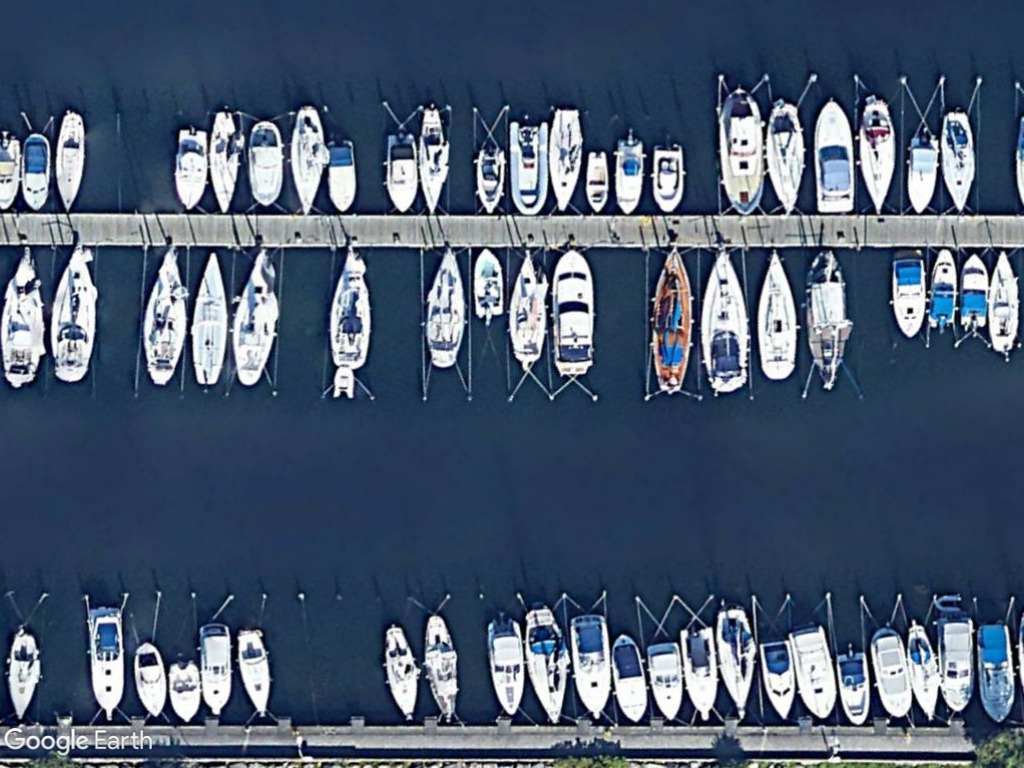boat: (695, 242, 753, 399), (801, 241, 856, 395), (710, 78, 770, 217), (140, 242, 194, 395), (643, 243, 695, 398), (45, 239, 99, 386), (229, 245, 281, 390), (418, 242, 473, 374), (753, 242, 803, 384), (548, 244, 598, 379), (565, 606, 620, 728), (321, 244, 374, 368), (0, 242, 43, 392), (807, 92, 857, 218), (523, 601, 573, 727), (188, 242, 229, 392), (761, 95, 809, 220), (506, 244, 553, 371), (84, 604, 134, 723), (854, 93, 899, 220), (785, 623, 839, 725), (421, 606, 466, 728), (714, 601, 758, 724), (483, 612, 532, 722), (285, 100, 330, 219), (502, 115, 552, 219), (380, 616, 426, 726), (867, 624, 917, 725), (413, 103, 455, 221), (974, 618, 1018, 728), (983, 243, 1024, 360), (543, 106, 586, 217), (934, 608, 976, 718), (677, 618, 720, 724), (901, 614, 942, 724), (206, 106, 246, 217), (940, 105, 980, 214), (608, 629, 651, 727), (235, 622, 277, 721), (4, 623, 44, 726), (888, 245, 930, 343), (51, 106, 89, 214), (196, 618, 237, 718), (167, 125, 213, 214), (246, 120, 290, 212), (753, 637, 799, 724), (643, 637, 687, 725), (382, 128, 422, 219), (467, 242, 510, 323), (830, 646, 873, 727), (18, 131, 59, 215), (927, 244, 964, 335), (609, 135, 650, 217), (131, 637, 171, 719), (903, 130, 942, 214), (647, 140, 688, 217), (325, 133, 362, 218), (957, 245, 989, 335), (472, 143, 508, 216), (167, 658, 204, 727), (583, 147, 614, 216), (326, 361, 359, 404)
